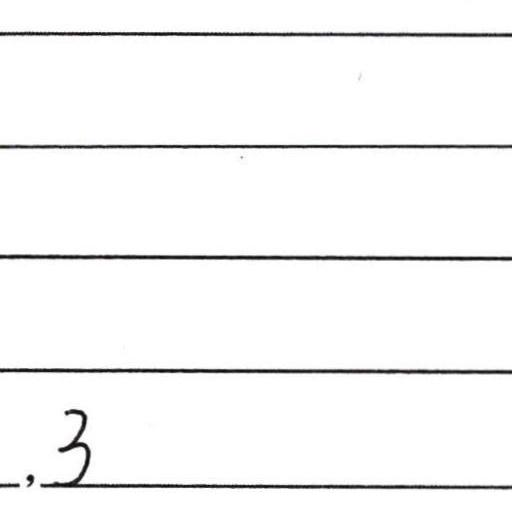ans: (47, 401, 95, 486)
